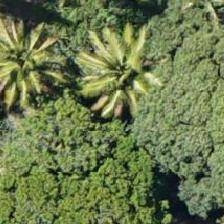coconut_tree: (63, 29, 153, 119), (0, 9, 60, 99)
